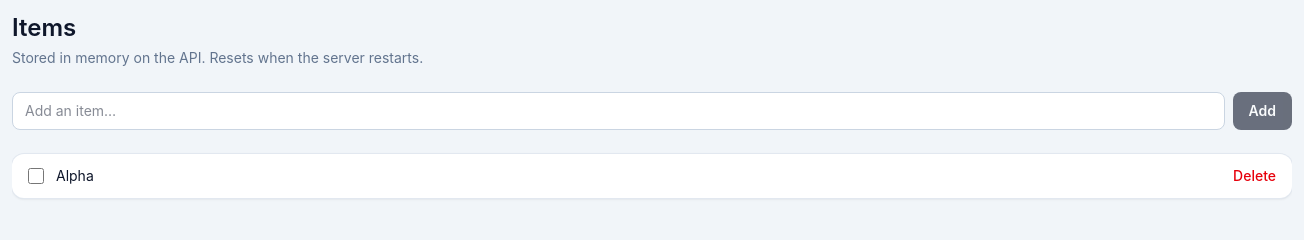
ItemsView › removes an item
What coordinates should you click on to do the following:
click the button "Delete"
I would click on:
 (1255, 176)
Its box is [1233,166,1276,186].
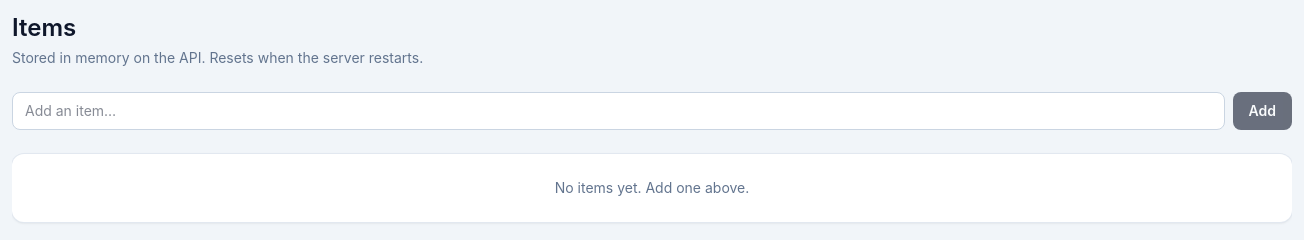
Expected: no list items are shown
